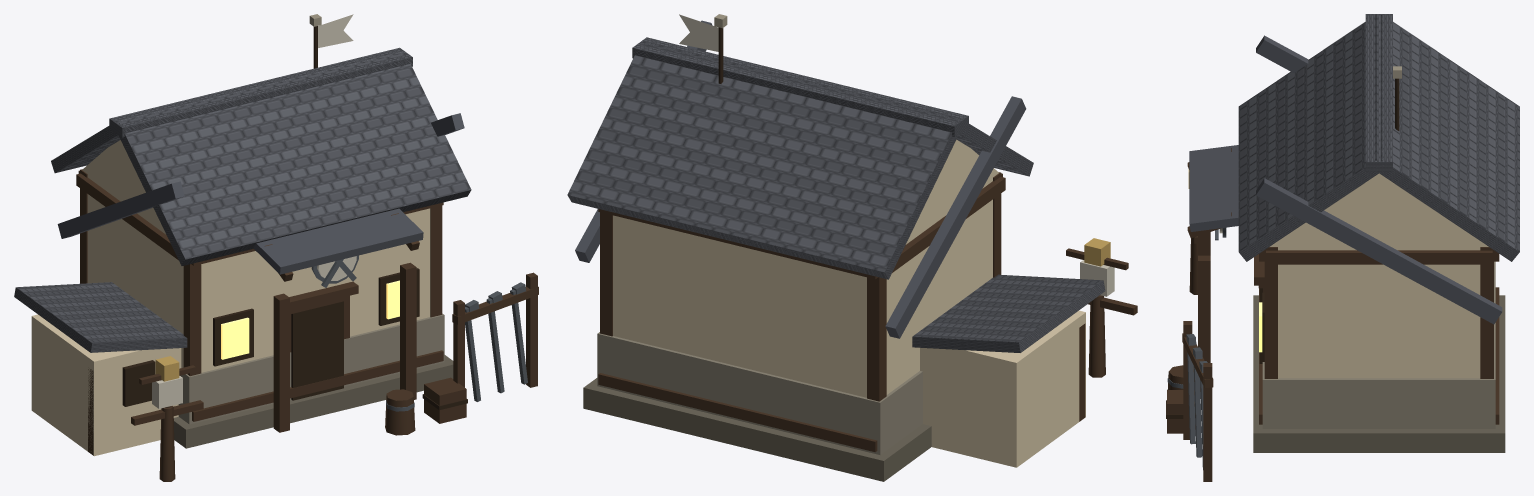
Rendered from infantry-L2.glb.
3 renders of one model, left to right at view 1: azimuth 30°, elevation 25°; view 2: azimuth 150°, elevation 25°; view 3: azimuth 270°, elevation 25°, orthographic. The views are drawn at different scales.
Visible parts, largest first — view 1: building-infantry-L2; view 2: building-infantry-L2; view 3: building-infantry-L2.
Part boxes in pixels (x1=…): building-infantry-L2: x1=14, y1=14, x2=538, y2=481; building-infantry-L2: x1=567, y1=14, x2=1137, y2=481; building-infantry-L2: x1=1166, y1=14, x2=1519, y2=481.
Size of the model in its own units: 2.69 by 2.05 by 1.89.
Materials: 12 (1 with a texture image).
